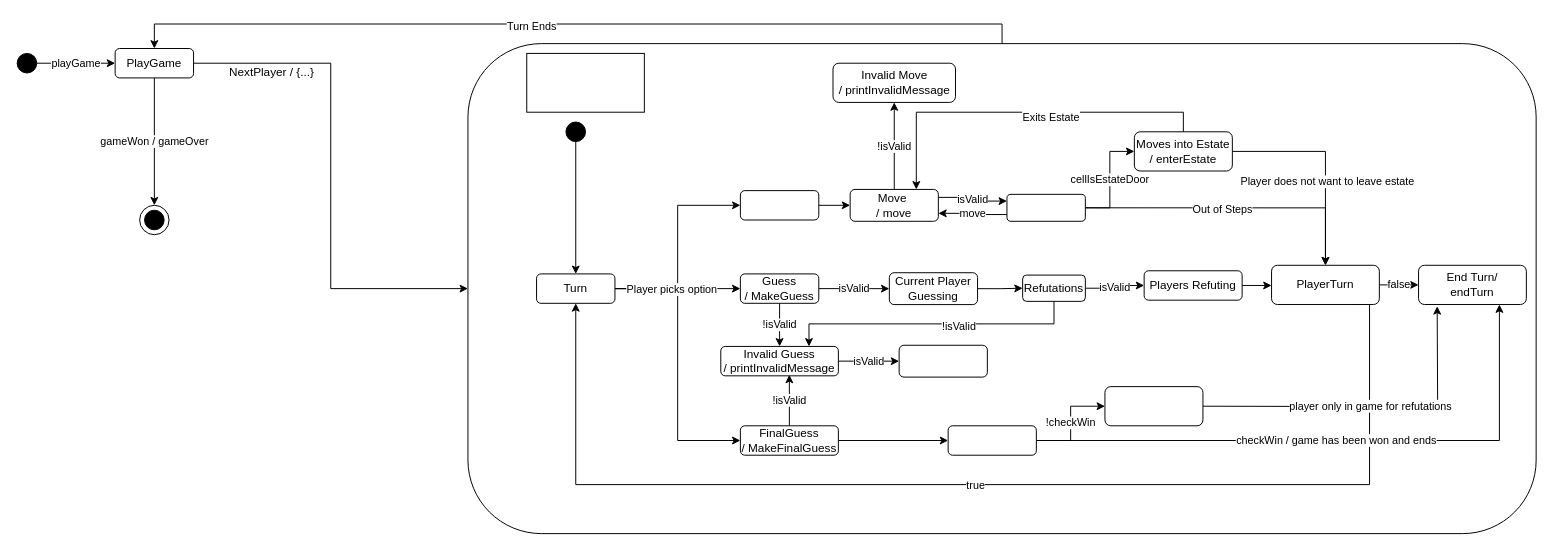
This 1553x551 diagram has some shape labels left out. Each missing label, with the centre of its shape:
Check Win /checkWin: point 991,440
Current active Player: point 585,82
Moving: point 1045,207
Player Making Final Guess: point 942,360
Player Out: point 1153,406
Roll / rollDice: point 779,205
